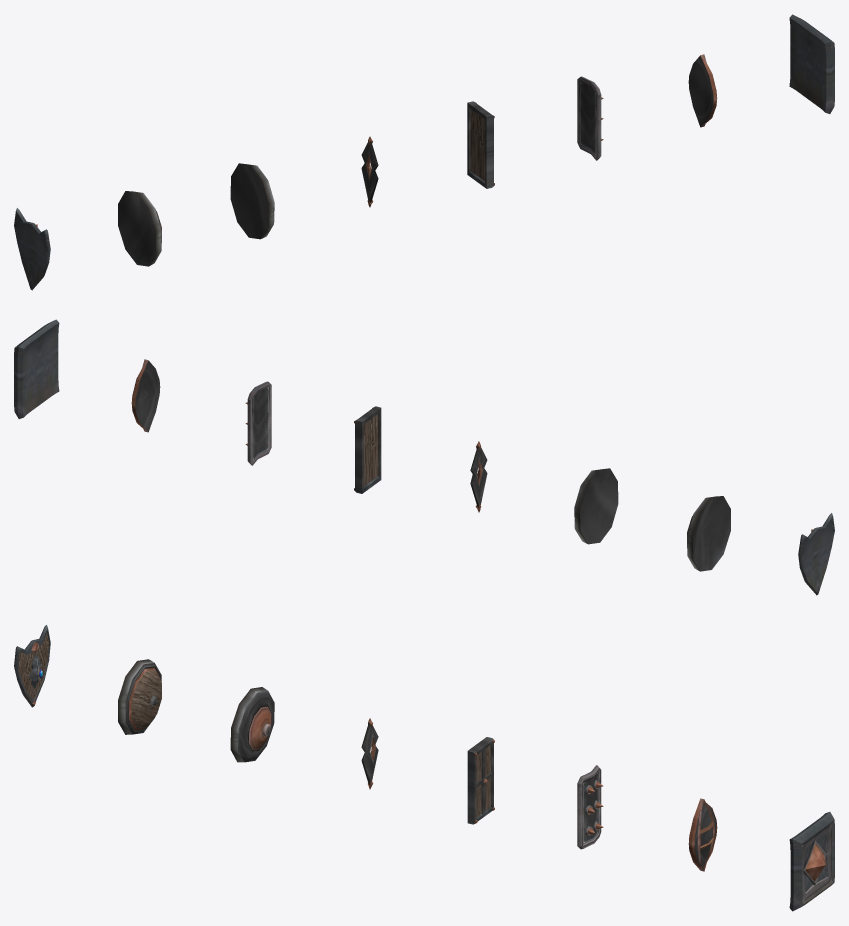
File: shields.glb
3 views of the same model, one above another, from view 1: azimuth 30°, elevation 25°; view 2: azimuth 150°, elevation 25°; view 3: azimuth 330°, elevation 25° (orthographic).
Parts seen in each view (by area): view 1: Shield7, Shield2, Shield1, Shield4, Shield5, Shield0, Shield6, Shield3; view 2: Shield7, Shield2, Shield1, Shield4, Shield5, Shield0, Shield6, Shield3; view 3: Shield7, Shield1, Shield2, Shield4, Shield5, Shield0, Shield6, Shield3.
Boxes of the visible parts, bbox=[...] form: Shield7: bbox=[789, 14, 834, 113]; Shield2: bbox=[230, 163, 274, 239]; Shield1: bbox=[118, 191, 161, 266]; Shield4: bbox=[467, 101, 494, 188]; Shield5: bbox=[577, 76, 603, 160]; Shield0: bbox=[14, 208, 50, 290]; Shield6: bbox=[688, 54, 717, 127]; Shield3: bbox=[361, 136, 378, 207]; Shield7: bbox=[14, 319, 59, 418]; Shield2: bbox=[574, 468, 618, 544]; Shield1: bbox=[687, 496, 730, 571]; Shield4: bbox=[354, 406, 381, 493]; Shield5: bbox=[245, 381, 271, 465]; Shield0: bbox=[798, 513, 834, 595]; Shield6: bbox=[131, 359, 160, 432]; Shield3: bbox=[470, 441, 487, 512]; Shield7: bbox=[789, 812, 834, 911]; Shield1: bbox=[118, 659, 161, 734]; Shield2: bbox=[230, 687, 274, 762]; Shield4: bbox=[467, 737, 494, 824]; Shield5: bbox=[577, 765, 603, 849]; Shield0: bbox=[14, 625, 50, 707]; Shield6: bbox=[688, 798, 717, 871]; Shield3: bbox=[361, 718, 378, 789].
Size of the model in its own units: 7.14 by 0.62 by 0.5903.
Materials: 1 (1 with a texture image).
